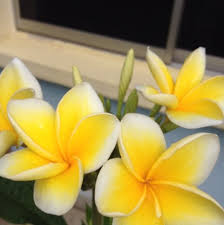frangipani: (1, 79, 118, 214)
